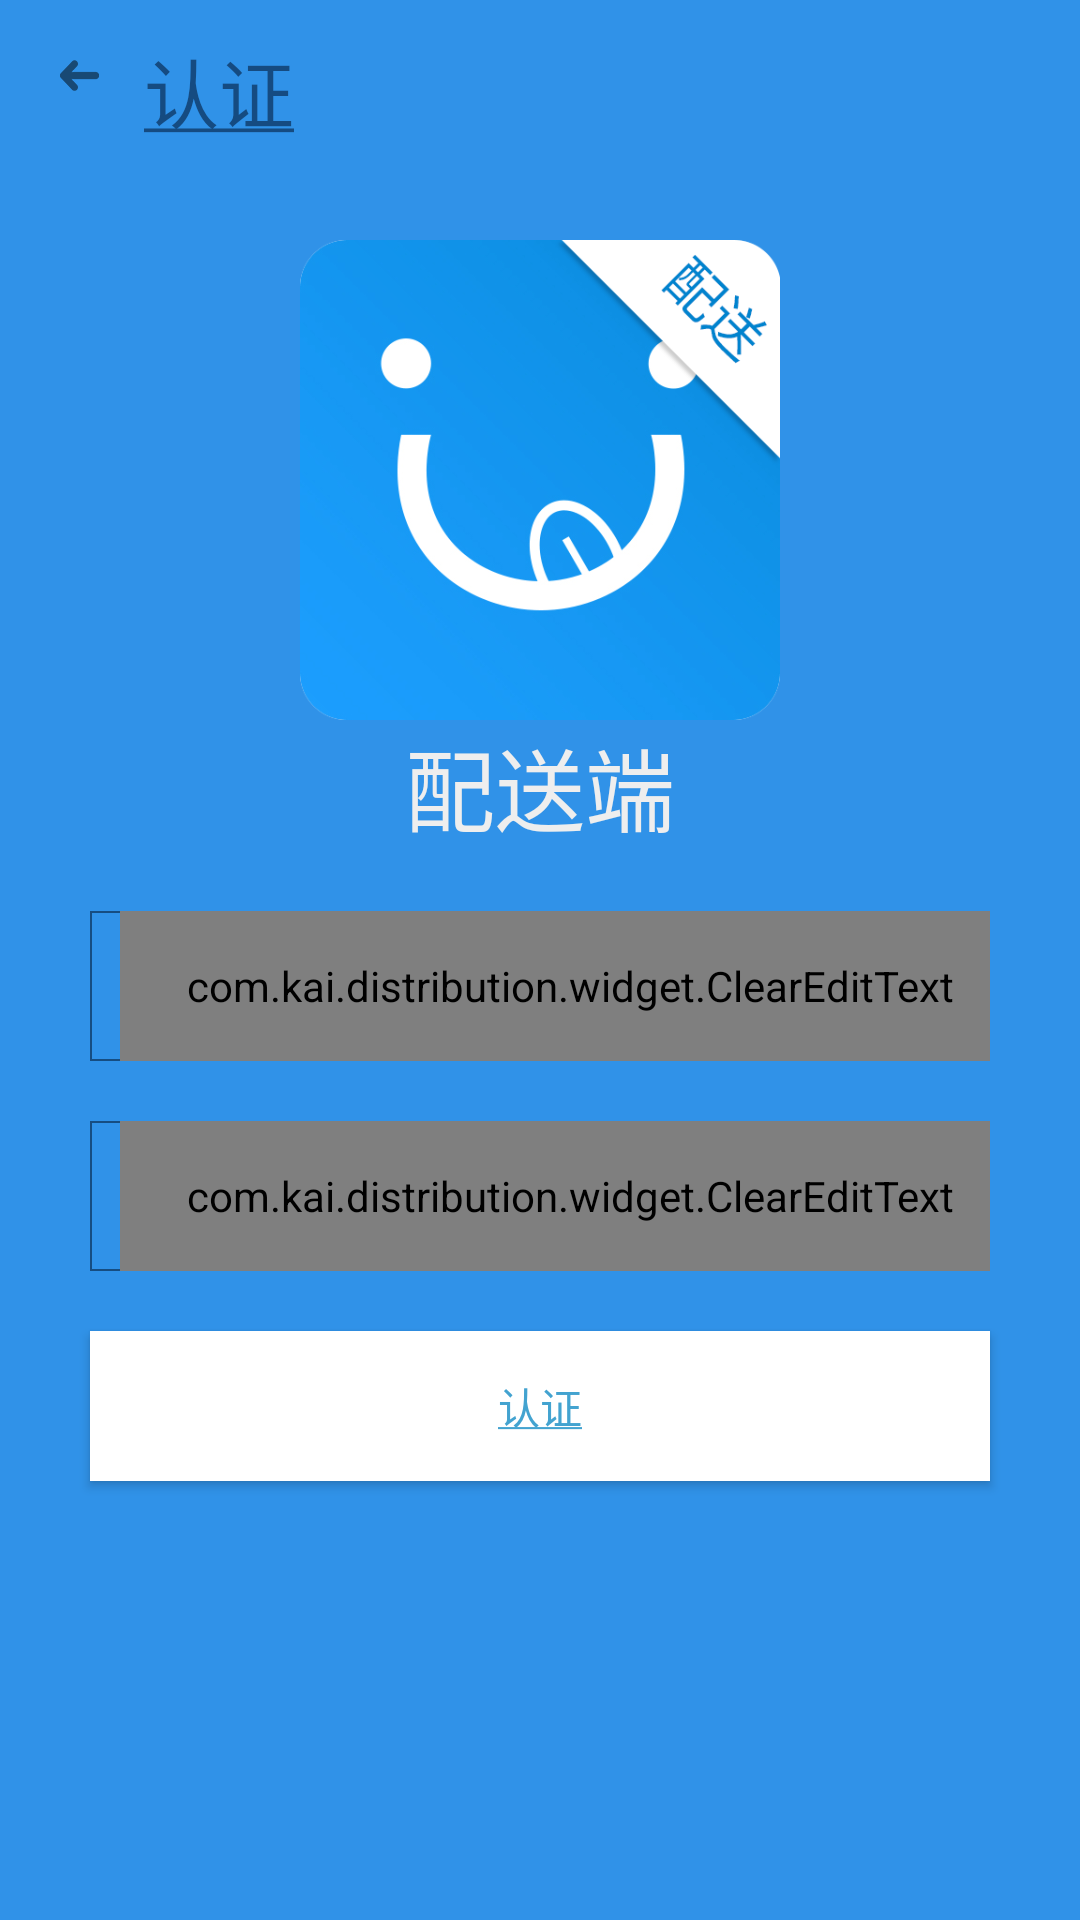

Screen size 1080*1920. Icon name, then its box in pixels as (x1, y1, x2, y2):
arrow left: (60, 60, 99, 91)
